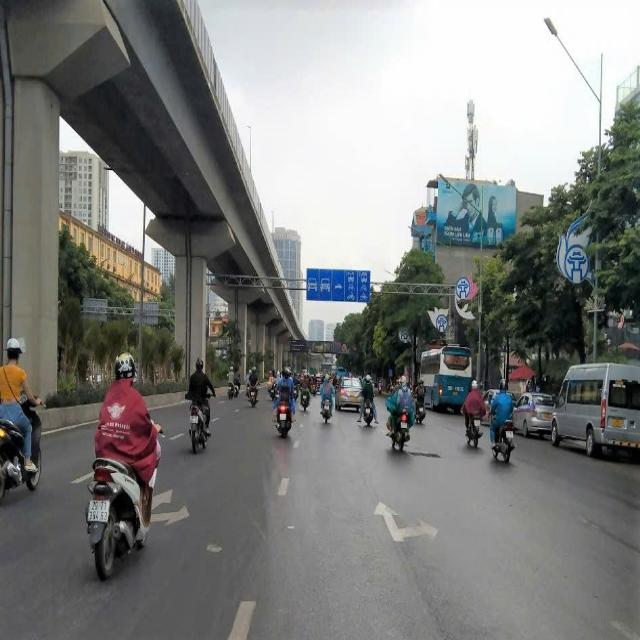car: (420, 342, 476, 411), (337, 370, 368, 415)
motobyte: (80, 346, 168, 590), (1, 323, 51, 519), (180, 346, 218, 466), (268, 361, 303, 450), (384, 368, 418, 455), (492, 374, 522, 471), (460, 375, 488, 454), (356, 368, 381, 433), (317, 366, 338, 428), (413, 374, 431, 430), (245, 360, 263, 408), (225, 358, 242, 406), (301, 364, 313, 416)
